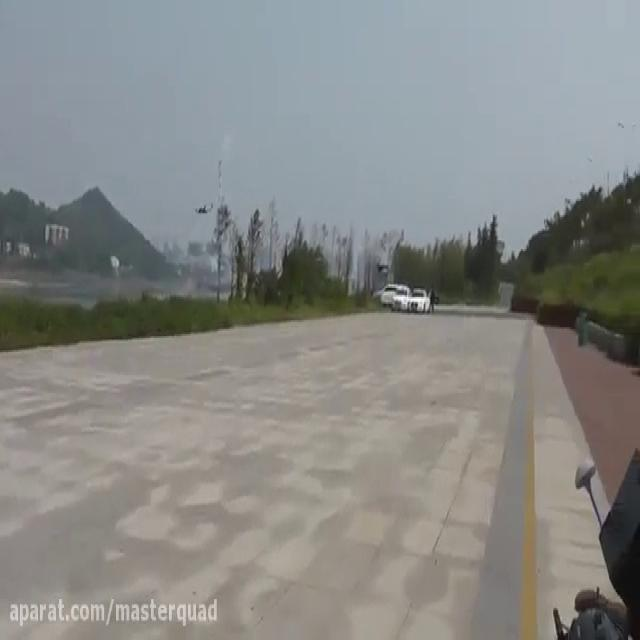drone: (192, 197, 214, 215)
